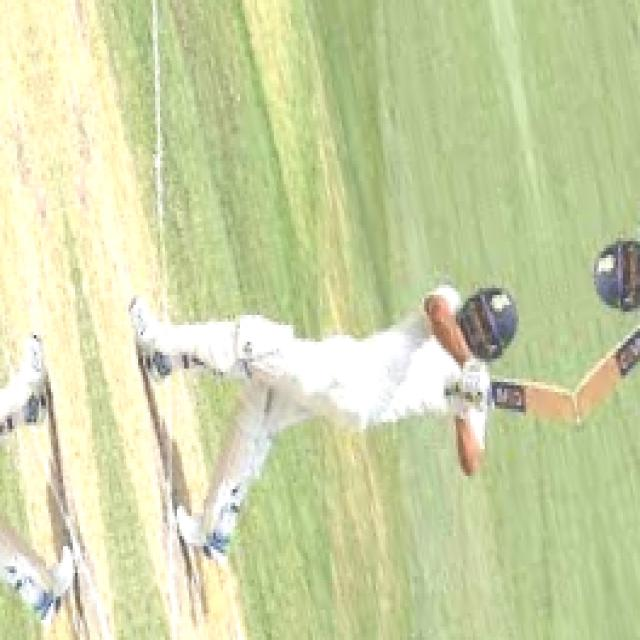toe: (560, 387, 580, 431)
